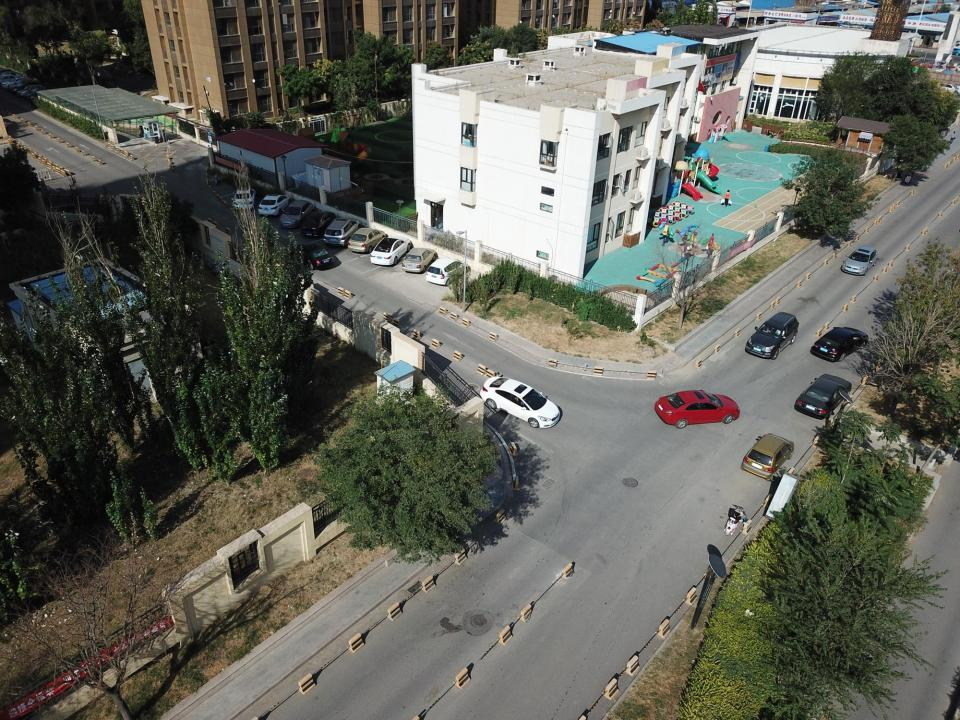car: (480, 376, 560, 428), (654, 389, 740, 429), (794, 373, 852, 420), (740, 432, 794, 481), (745, 312, 799, 360), (810, 326, 869, 362), (426, 256, 470, 286), (370, 236, 411, 266), (323, 217, 361, 247), (841, 245, 878, 275), (297, 241, 334, 269), (348, 227, 386, 253), (279, 200, 314, 228), (301, 211, 336, 237), (401, 247, 436, 272), (258, 193, 291, 216), (233, 188, 256, 210)
